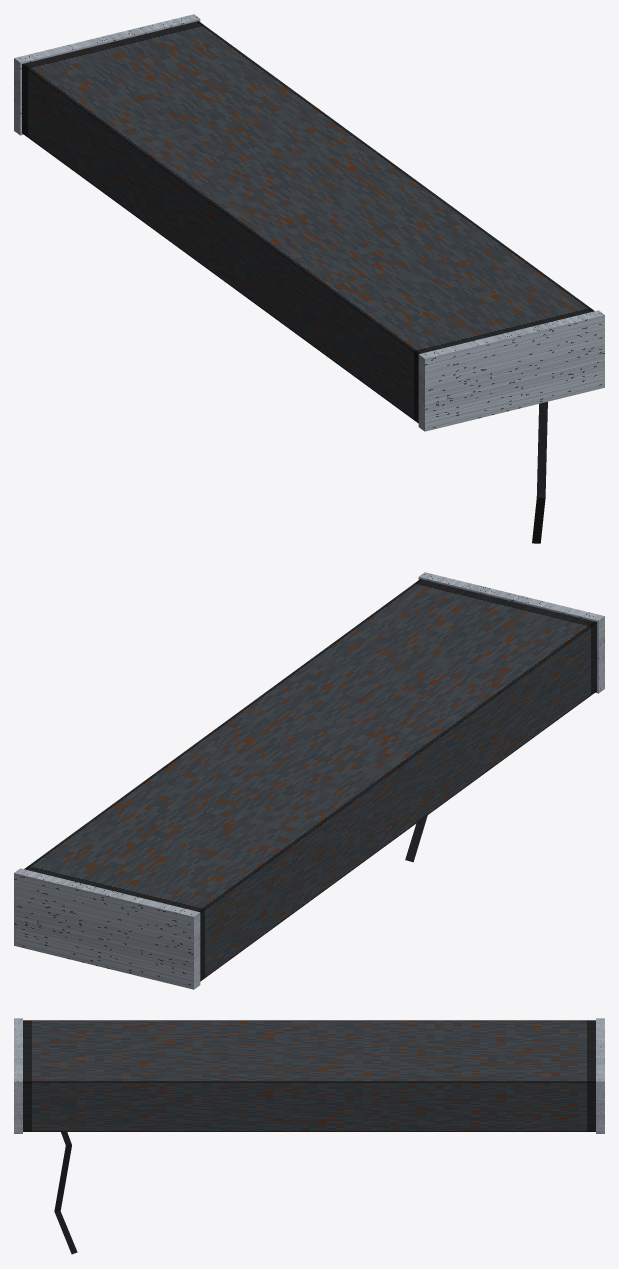
Rendered from light_fixture.glb.
3 views of the same model, one above another, from view 1: azimuth 30°, elevation 25°; view 2: azimuth 150°, elevation 25°; view 3: azimuth 270°, elevation 25° (orthographic). The views are drawn at different scales.
Parts seen in each view (by area): view 1: bn_light_fixture_1337; view 2: bn_light_fixture_1337; view 3: bn_light_fixture_1337.
Boxes of the visible parts, left/top/right/bottom form: bn_light_fixture_1337: left=14, top=14, right=604, bottom=543; bn_light_fixture_1337: left=14, top=572, right=604, bottom=989; bn_light_fixture_1337: left=14, top=1018, right=604, bottom=1254.
Size of the model in its own units: 0.3264 by 0.437 by 1.29.
Materials: 6 (6 with a texture image).
